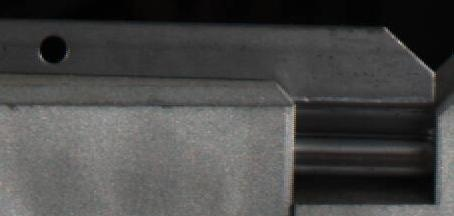cut: (303, 25, 443, 200)
holes: (38, 33, 71, 65)
